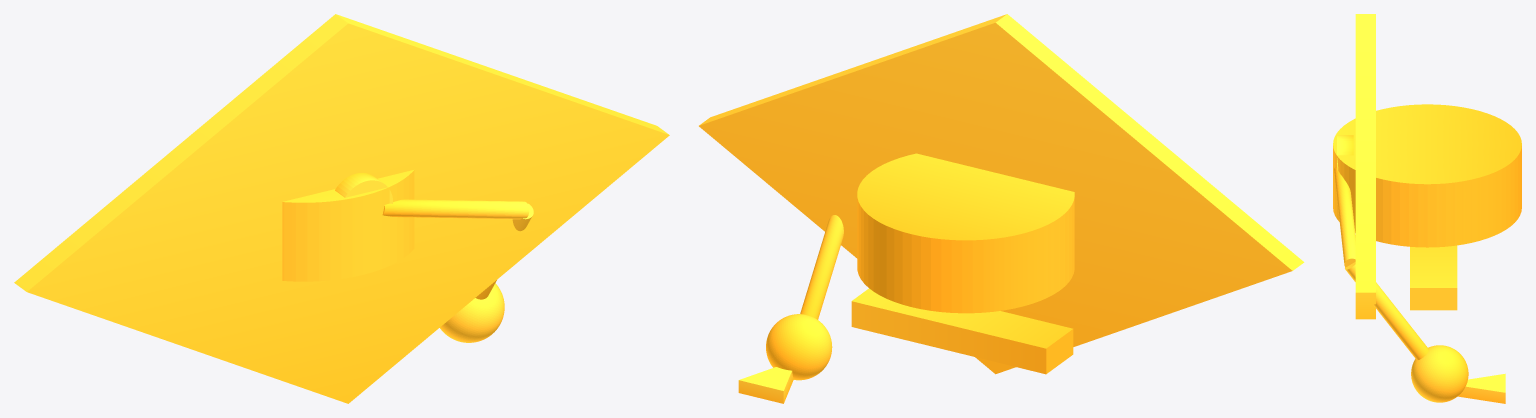
The model's file is courses_premium_sharp_edges_v2.glb.
The picture shows the model from 3 angles, left to right: view 1: azimuth 30°, elevation 25°; view 2: azimuth 150°, elevation 25°; view 3: azimuth 270°, elevation 25°; orthographic projection. The views are drawn at different scales.
Parts seen in each view (by area): view 1: world; view 2: world; view 3: world.
Part boxes in pixels (<box>): world: <box>14,14,669,403</box>; world: <box>699,14,1304,403</box>; world: <box>1333,14,1521,403</box>.
Bounding box in the file's own units: 2.9 × 1.71 × 0.92.
